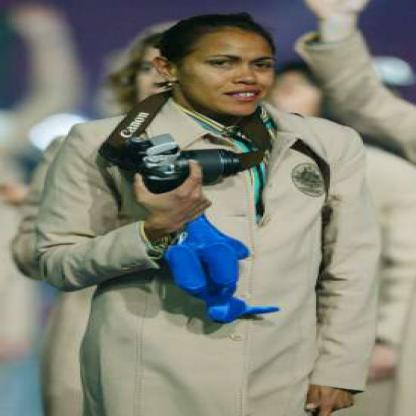face: (174, 16, 286, 118), (126, 29, 217, 119)
